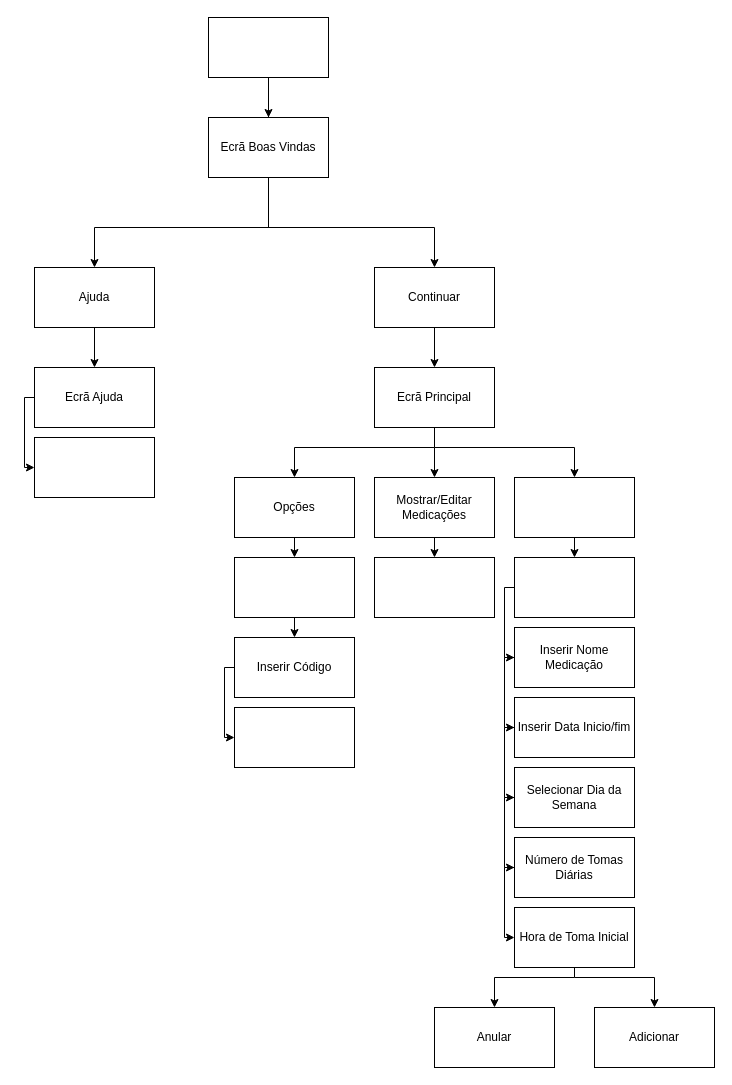
Some shapes in this 732 by 1085 pixel diagram are drawn without their labels. The centre of each missing label's shape, as x and y in pixels:
"Adicionar Medicação" belongs at (574,507).
"EasyMed" belongs at (268,47).
"Ecrã Adicionar Medicação" belongs at (574,587).
"Ecrã das opções" belongs at (294,587).
"Ecrã de Edição de Medicação" belongs at (434,587).
"Ecrã de escolher código" belongs at (294,737).
"Sobre Aplicação" belongs at (94,467).
